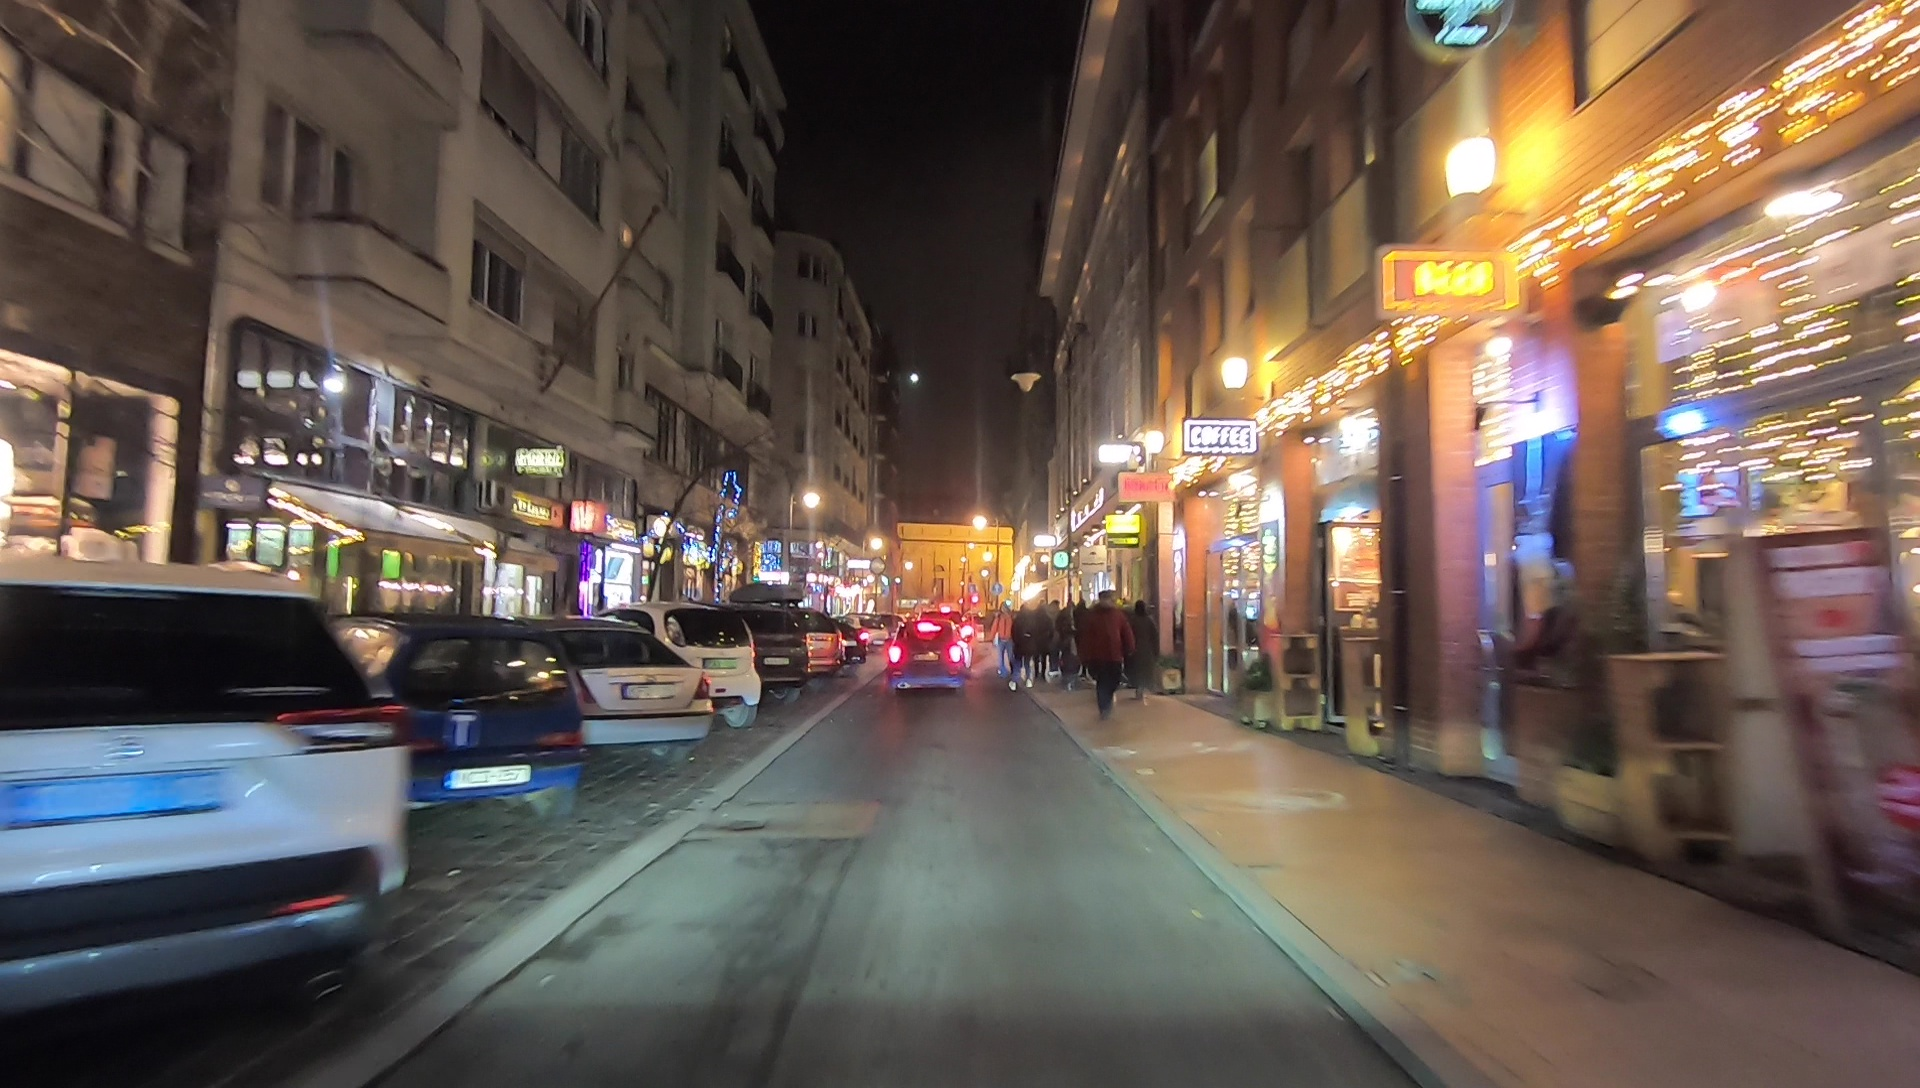person: (1082, 588, 1121, 714), (1131, 603, 1160, 699), (993, 600, 1014, 676), (1016, 596, 1031, 697), (1032, 599, 1050, 683)
